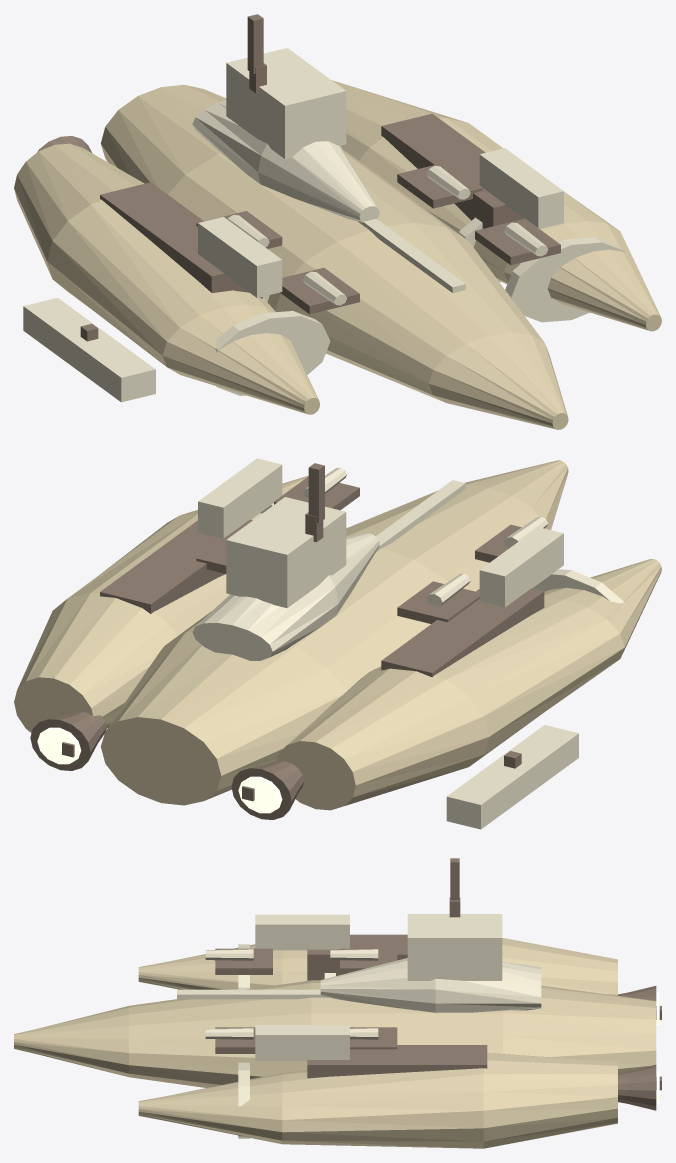
The picture shows the model from 3 angles, top to bottom: view 1: azimuth 30°, elevation 25°; view 2: azimuth 150°, elevation 25°; view 3: azimuth 270°, elevation 25°; orthographic projection. The views are drawn at different scales.
Bounding box in the file's own units: 18.14 × 10.86 × 27.38.
